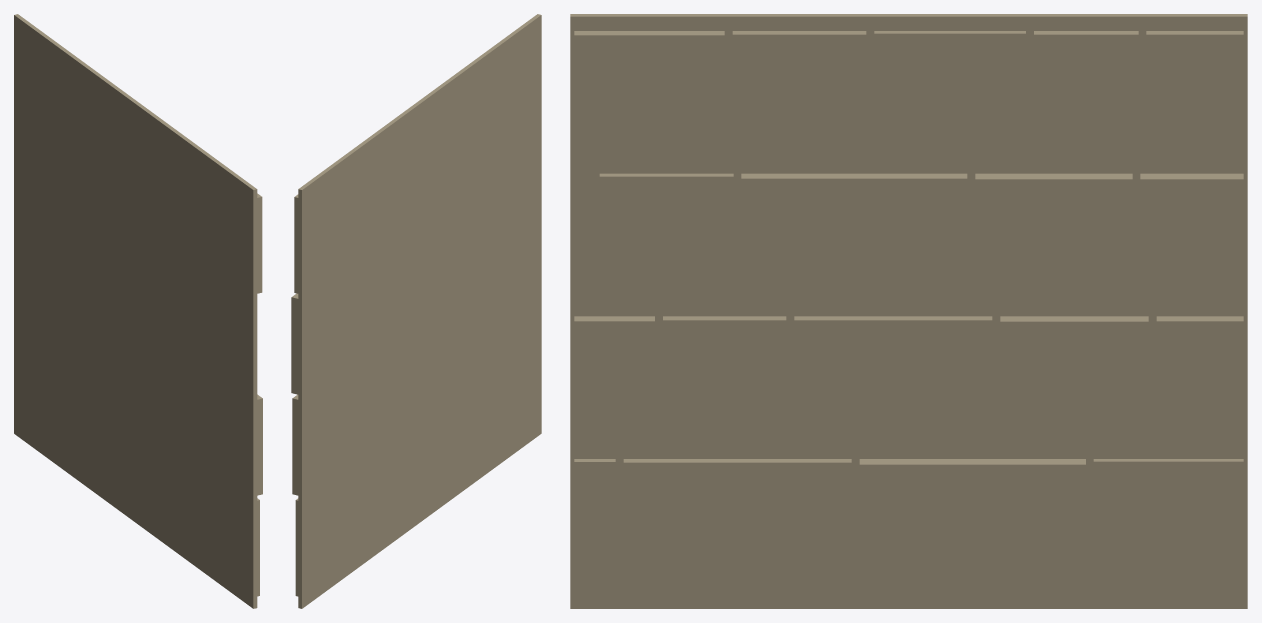
Rendered from SM_SB_Kit_StoneFaceA.fbx.
3 views of the same model, side by side, from view 1: azimuth 30°, elevation 25°; view 2: azimuth 150°, elevation 25°; view 3: azimuth 270°, elevation 25° (orthographic). The views are drawn at different scales.
Parts seen in each view (by area): view 1: SM_SB_Kit_StoneFaceA; view 2: SM_SB_Kit_StoneFaceA; view 3: SM_SB_Kit_StoneFaceA.
Part boxes in pixels (x1,y1,x2,y2): SM_SB_Kit_StoneFaceA: (14,14,262,608); SM_SB_Kit_StoneFaceA: (291,14,541,608); SM_SB_Kit_StoneFaceA: (570,14,1247,608).
Bounding box in the file's own units: 12.73 × 430 × 415.
